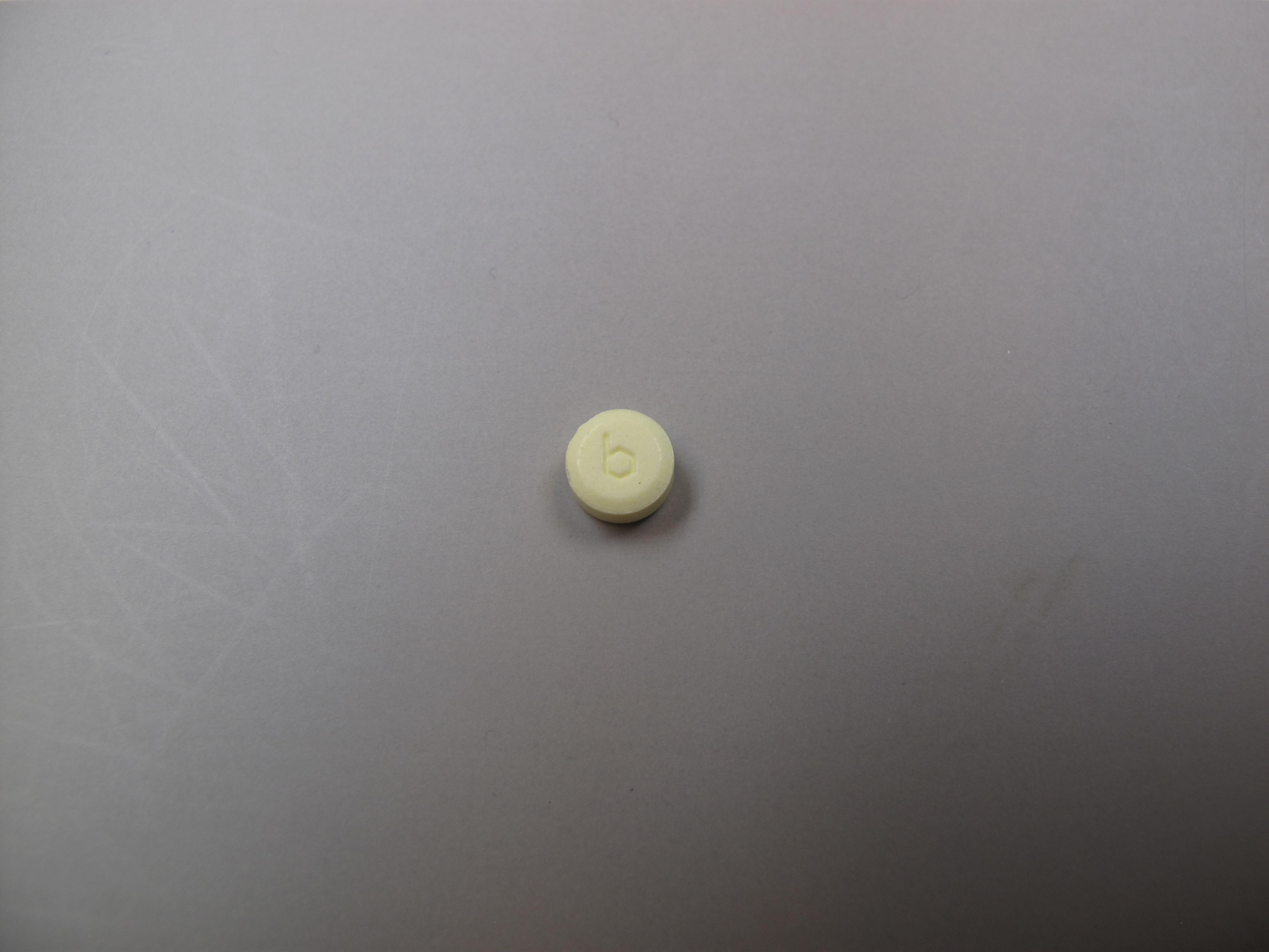Pill: (549, 400, 685, 535)
